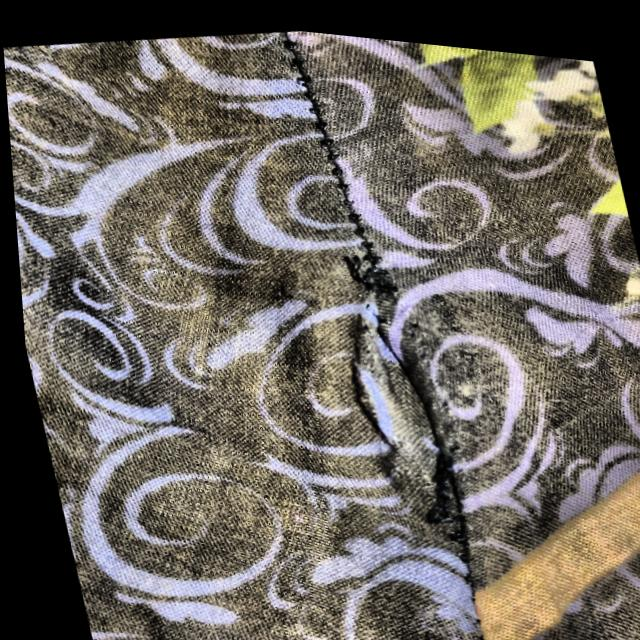seam: (273, 195, 537, 587)
